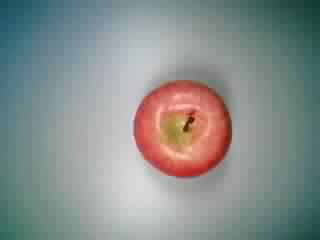apple: (132, 78, 238, 177)
